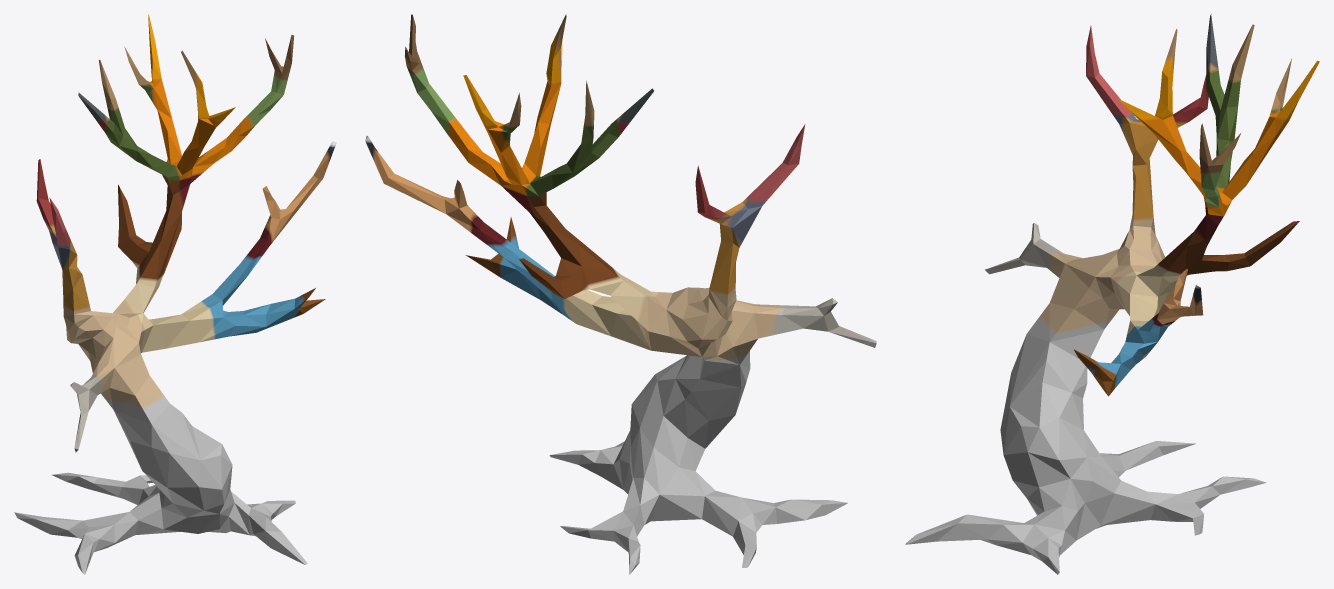
File: Tree_08.fbx
3 renders of one model, left to right at view 1: azimuth 30°, elevation 25°; view 2: azimuth 150°, elevation 25°; view 3: azimuth 270°, elevation 25°, orthographic. The views are drawn at different scales.
Visible parts, largest first — view 1: Tree_08; view 2: Tree_08; view 3: Tree_08.
Part boxes in pixels (x1=…): Tree_08: x1=14, y1=14, x2=336, y2=574; Tree_08: x1=365, y1=14, x2=876, y2=574; Tree_08: x1=905, y1=14, x2=1319, y2=574.
Size of the model in its own units: 13.38 by 16.21 by 11.65.
